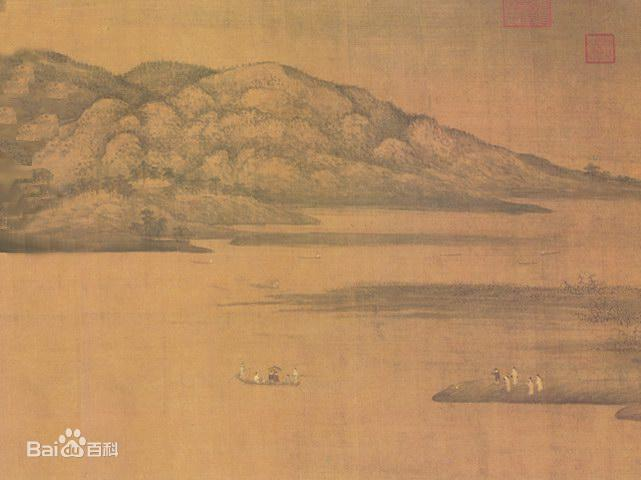boat: (237, 362, 318, 388), (250, 279, 283, 291), (190, 256, 217, 268), (297, 251, 322, 261), (537, 248, 561, 255), (517, 259, 536, 266)
man: (491, 365, 548, 393), (233, 359, 246, 385), (289, 367, 301, 387), (251, 369, 262, 385)
range: (6, 49, 601, 237)
river: (2, 274, 455, 480)
